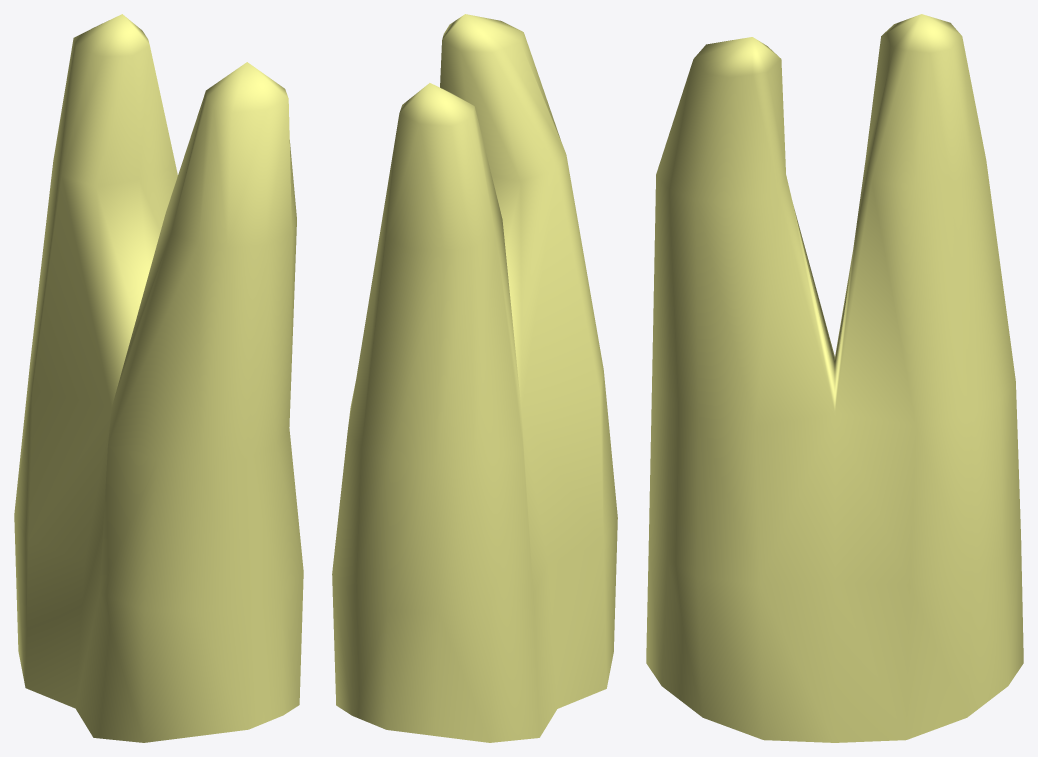
File: D24R_Raiz.obj
The picture shows the model from 3 angles, left to right: view 1: azimuth 30°, elevation 25°; view 2: azimuth 150°, elevation 25°; view 3: azimuth 270°, elevation 25°; orthographic projection. The views are drawn at different scales.
Visible parts, largest first — view 1: D24R_Raiz; view 2: D24R_Raiz; view 3: D24R_Raiz.
Part boxes in pixels (x1,y1,x2,y2): D24R_Raiz: (14,14,303,742); D24R_Raiz: (332,14,617,742); D24R_Raiz: (646,14,1023,742).
Bounding box in the file's own units: 4.86 × 14.53 × 7.34.
